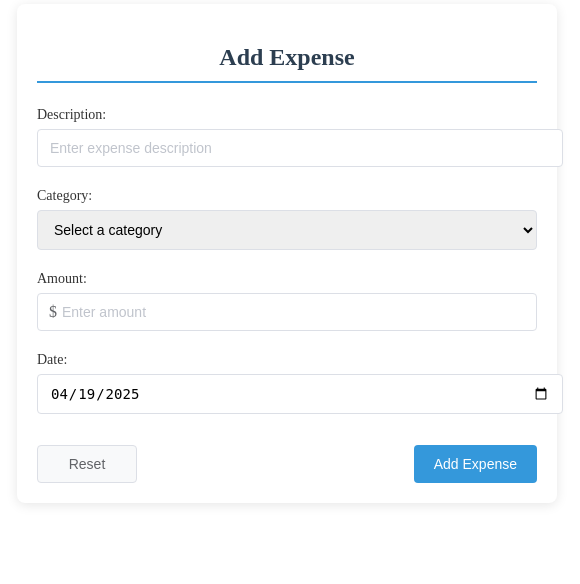
Test: ExpenseForm.vue › displays validation error when server returns 400 status
// Fill form fields
Type "Test" into the field with placeholder "Enter expense description".
click(300, 148); type("Test")  # box 37,129 -> 563,167
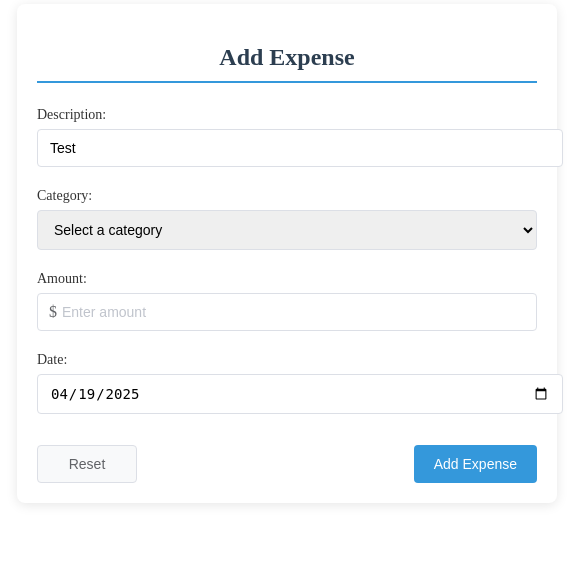
Select "Food" in the dropdown labelled "Category:" at point(287, 230), box 37,210 -> 537,250
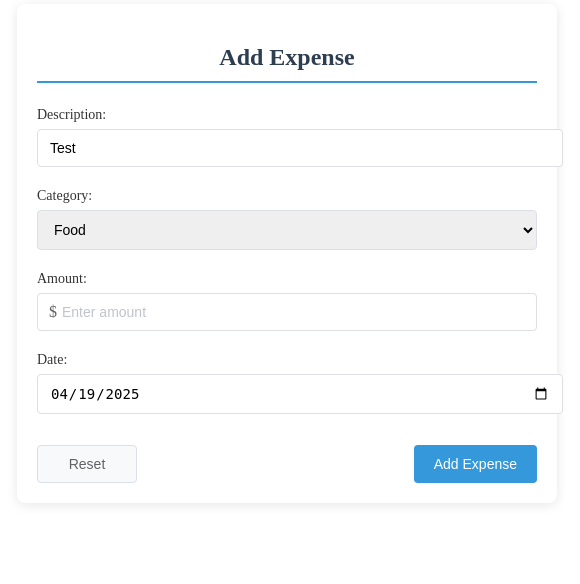
Type "-10" into the number field labelled "Amount:".
click(287, 312); type("-10")  # box 37,293 -> 537,331
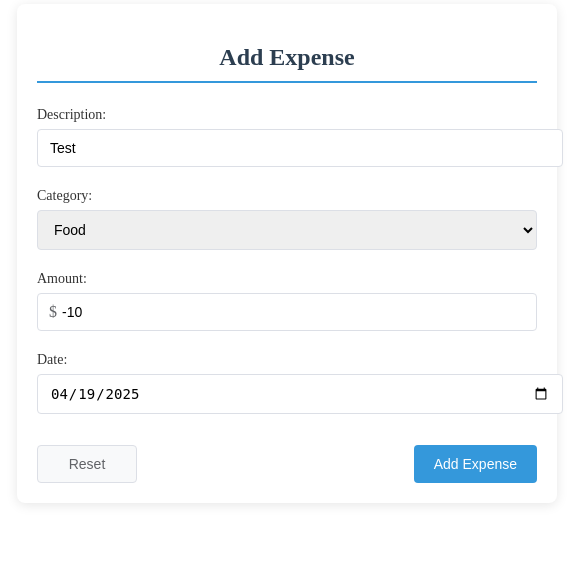
Type "2025-04-09" into the date field labelled "Date:".
click(300, 394); type("2025-04-09")  # box 37,374 -> 563,414
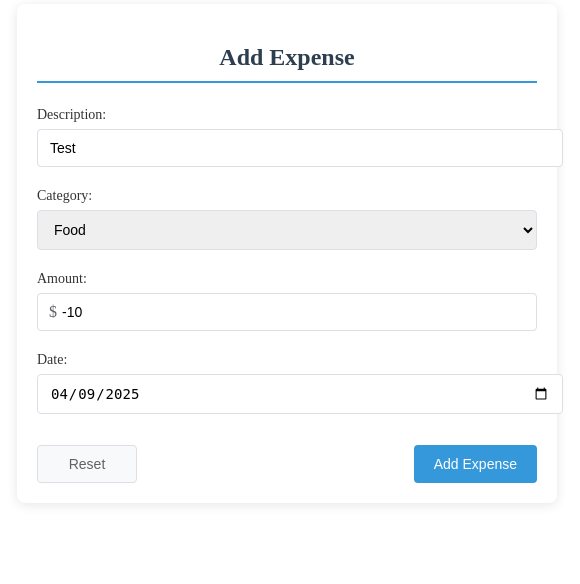
// Submit form
Submit the form, box 37,107 -> 537,483
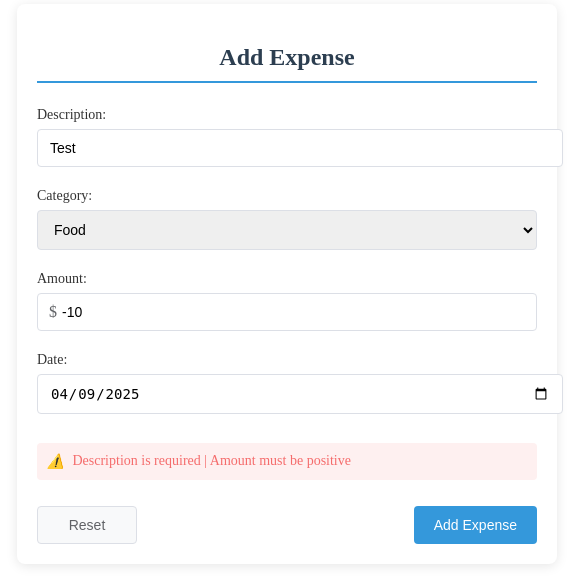
Now the element with class "error-message" is shown, box 37,443 -> 537,480
Now the element with class "error-message" shows "Description is required | Amount must be positive", box 72,453 -> 351,468
